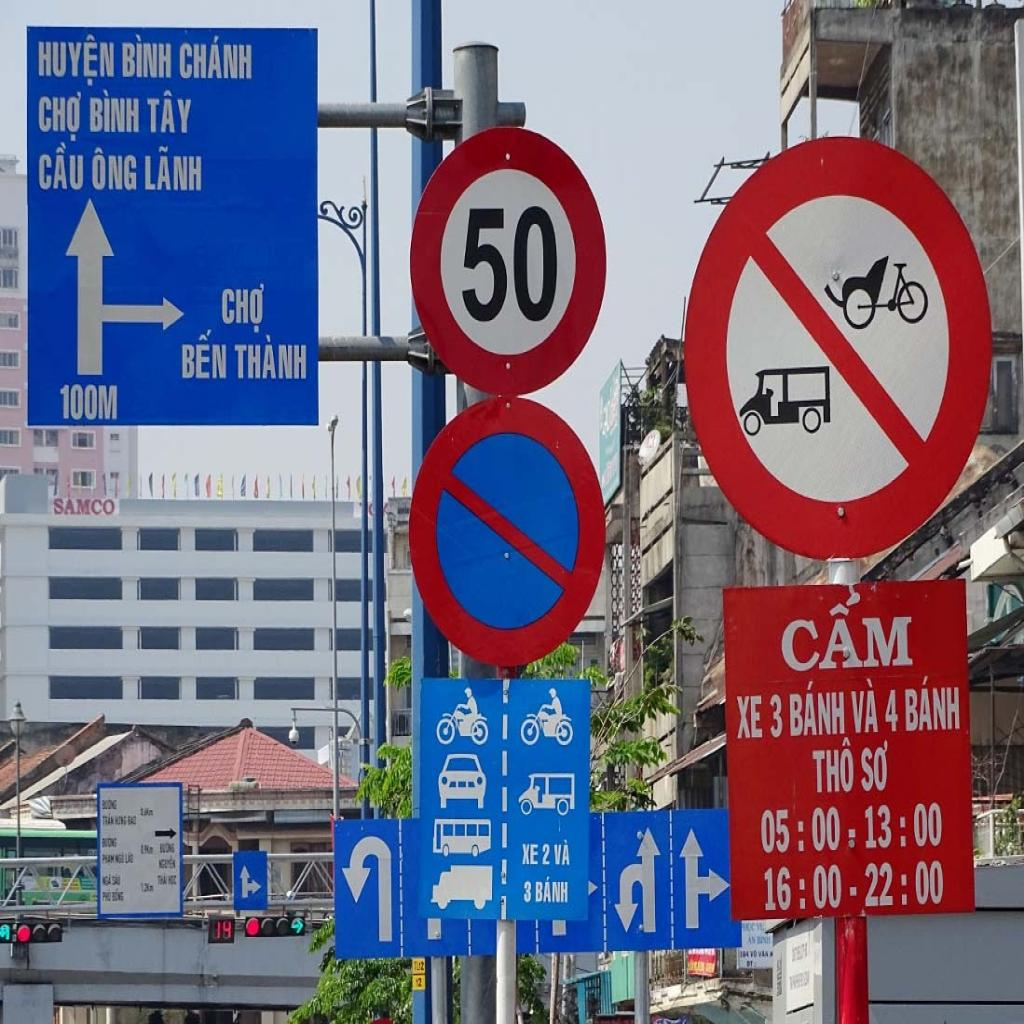text: (778, 590, 918, 677), (461, 204, 559, 328), (863, 794, 946, 854), (758, 802, 844, 859), (36, 33, 116, 90), (760, 860, 844, 914), (862, 856, 946, 910), (178, 33, 255, 86), (901, 671, 963, 733), (234, 332, 307, 384), (788, 677, 847, 740), (143, 144, 203, 194), (179, 326, 229, 384), (811, 734, 856, 798), (36, 141, 87, 196), (144, 87, 198, 137), (120, 33, 174, 82), (37, 90, 86, 144), (219, 280, 266, 336), (86, 90, 142, 136), (89, 144, 140, 194), (58, 382, 121, 422), (849, 676, 882, 737), (858, 739, 890, 796), (733, 692, 766, 742), (52, 497, 118, 517), (534, 876, 569, 908), (883, 686, 901, 736), (767, 692, 784, 742), (553, 837, 572, 871), (521, 840, 540, 869), (216, 920, 233, 941), (158, 855, 177, 872), (523, 877, 534, 906), (101, 797, 119, 813), (101, 835, 118, 851), (159, 840, 176, 856), (542, 841, 552, 868), (845, 826, 861, 842), (112, 887, 126, 905), (847, 883, 860, 901), (102, 852, 116, 868), (156, 873, 168, 890), (102, 813, 116, 827), (100, 888, 112, 904), (114, 814, 128, 827), (168, 873, 178, 890), (114, 851, 126, 865), (124, 851, 136, 865), (646, 434, 657, 449), (127, 813, 138, 827), (112, 873, 123, 887), (758, 948, 770, 960), (102, 873, 112, 887), (739, 948, 750, 960), (749, 948, 759, 960), (746, 960, 758, 969)
